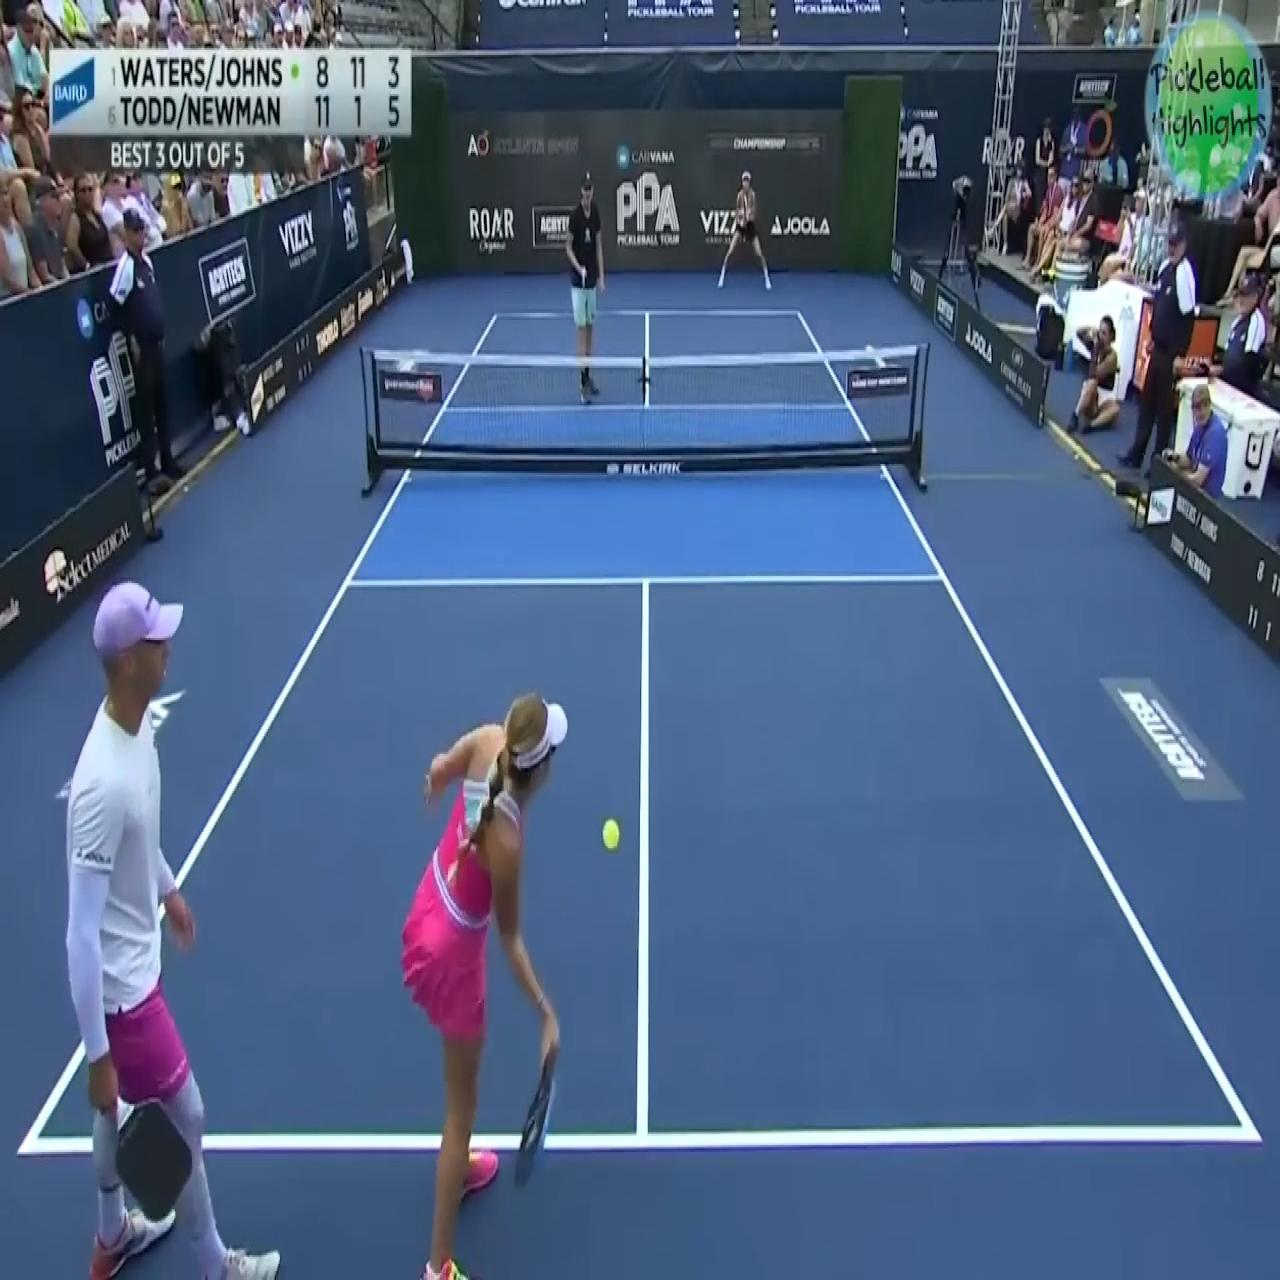Pickleball: (601, 815, 620, 853)
